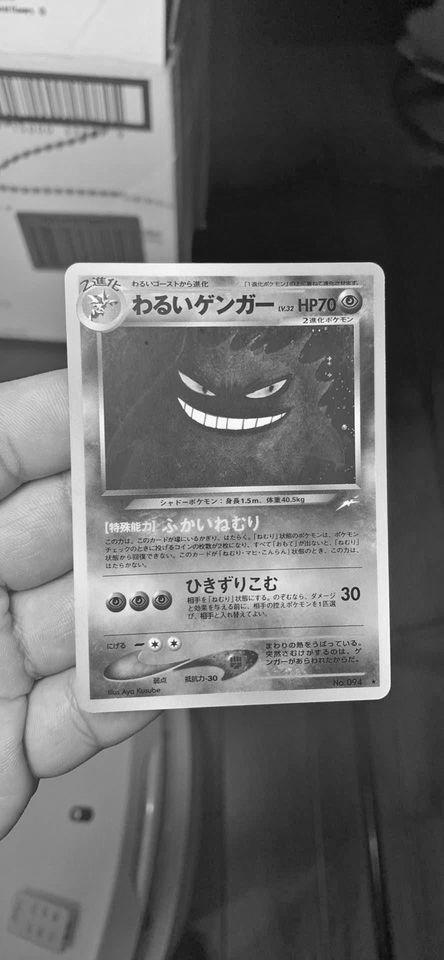card: (62, 261, 393, 714)
